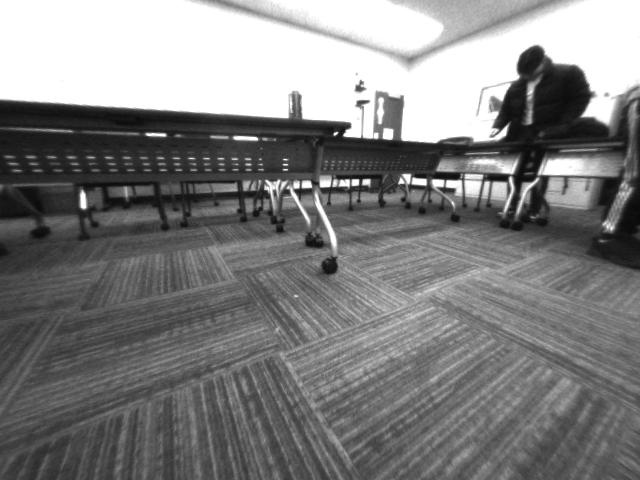can: (284, 88, 308, 126)
